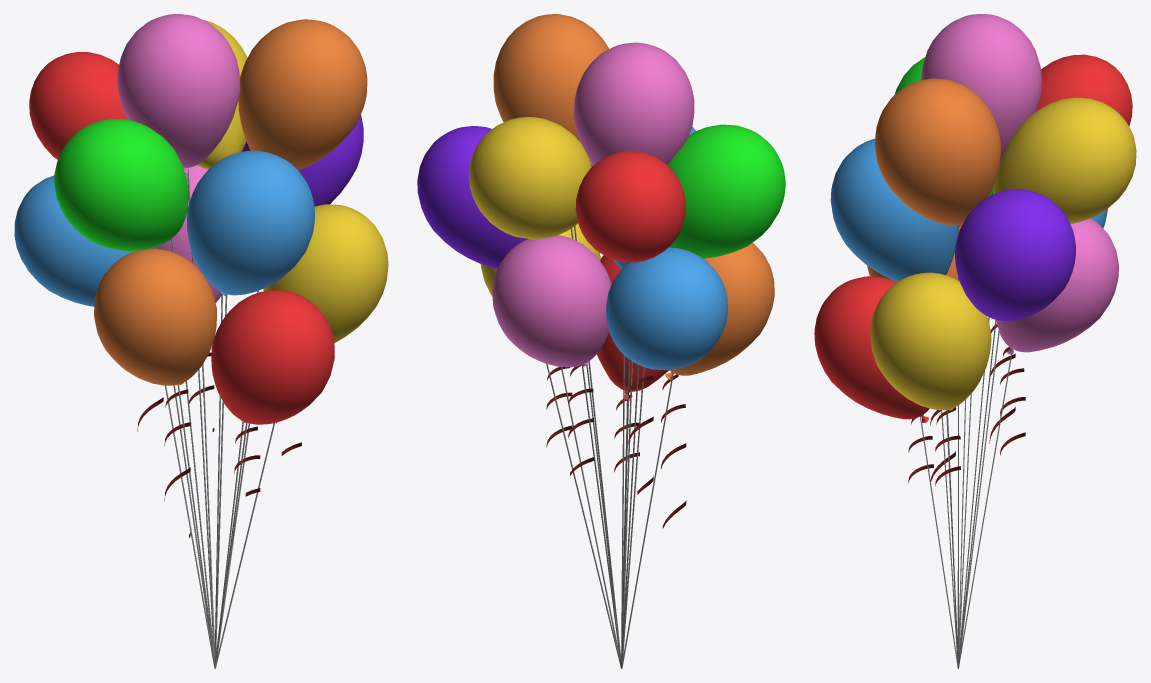
The model's file is baloes.glb.
3 views of the same model, side by side, from view 1: azimuth 30°, elevation 25°; view 2: azimuth 150°, elevation 25°; view 3: azimuth 270°, elevation 25° (orthographic).
Parts seen in each view (by area): view 1: Sphere.001, Sphere, Sphere.003, Sphere.002, Sphere.004, Sphere.005, Sphere.006, Sphere.008, Sphere.011, Sphere.007, Sphere.010, Sphere.009 (+6 smaller); view 2: Sphere.009, Sphere.003, Sphere.008, Sphere.002, Sphere.010, Sphere.011, Sphere.001, Sphere.007, Sphere.004, Sphere.005, Cube.005, Cube.009 (+8 smaller); view 3: Sphere.001, Sphere.006, Sphere.007, Sphere.010, Sphere, Sphere.002, Sphere.005, Sphere.009, Sphere.011, Cube.005, Cube.009, Cube.010 (+1 smaller).
Boxes of the visible parts, left/top/right/bottom form: Sphere.001: left=238, top=19, right=367, bottom=170; Sphere: left=187, top=150, right=314, bottom=295; Sphere.003: left=54, top=119, right=188, bottom=250; Sphere.002: left=117, top=14, right=240, bottom=174; Sphere.004: left=94, top=248, right=216, bottom=385; Sphere.005: left=211, top=290, right=334, bottom=424; Sphere.006: left=263, top=204, right=388, bottom=343; Sphere.008: left=14, top=175, right=152, bottom=306; Sphere.011: left=29, top=52, right=128, bottom=159; Sphere.007: left=242, top=114, right=363, bottom=206; Sphere.010: left=197, top=20, right=247, bottom=169; Sphere.009: left=152, top=165, right=221, bottom=302; Sphere.009: left=492, top=235, right=611, bottom=367; Sphere.003: left=667, top=124, right=785, bottom=258; Sphere.008: left=606, top=247, right=727, bottom=370; Sphere.002: left=573, top=42, right=694, bottom=166; Sphere.010: left=469, top=117, right=591, bottom=239; Sphere.011: left=575, top=151, right=685, bottom=262; Sphere.001: left=493, top=14, right=608, bottom=141; Sphere.007: left=417, top=126, right=527, bottom=268; Sphere.004: left=665, top=243, right=774, bottom=379; Sphere.005: left=596, top=255, right=668, bottom=400; Cube.005: left=546, top=363, right=620, bottom=667; Cube.009: left=581, top=365, right=621, bottom=668; Sphere.001: left=874, top=78, right=1001, bottom=227; Sphere.006: left=870, top=272, right=991, bottom=410; Sphere.007: left=955, top=189, right=1075, bottom=320; Sphere.010: left=993, top=97, right=1136, bottom=224; Sphere: left=830, top=138, right=959, bottom=281; Sphere.002: left=921, top=14, right=1041, bottom=163; Sphere.005: left=814, top=276, right=929, bottom=422; Sphere.009: left=996, top=218, right=1118, bottom=354; Sphere.011: left=1036, top=54, right=1132, bottom=126; Cube.005: left=958, top=319, right=996, bottom=667; Cube.009: left=959, top=349, right=1012, bottom=666; Cube.010: left=961, top=330, right=999, bottom=648.
Bounding box in the file's own units: 929 × 1763 × 807.
